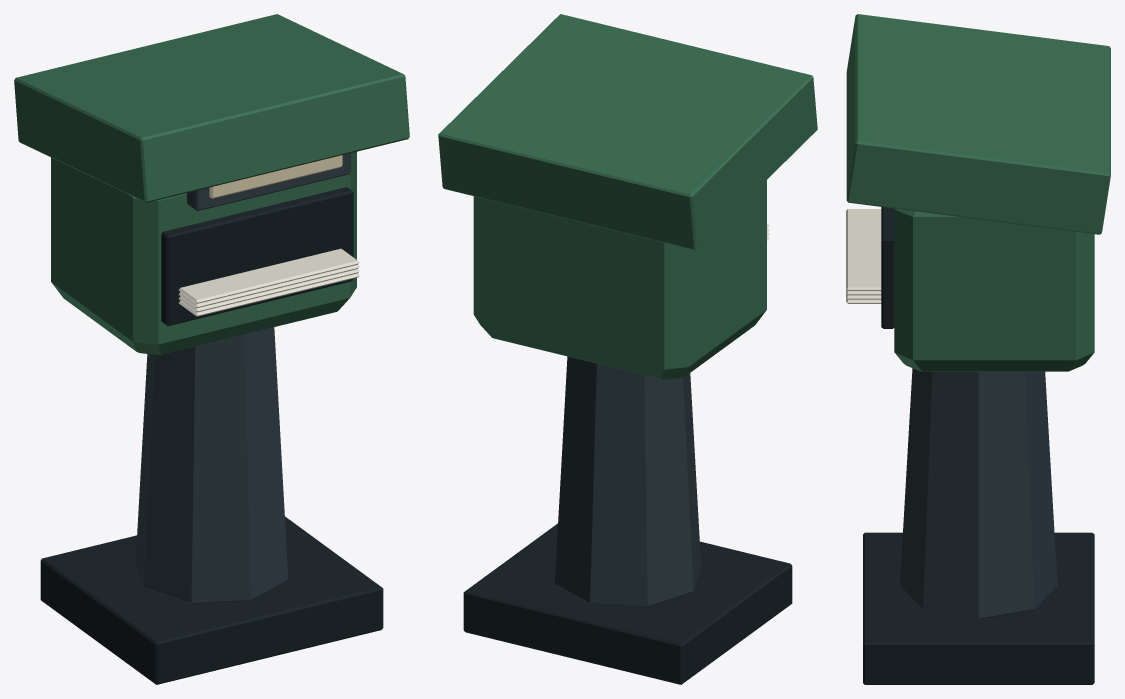
File: b10_free_weekly_news_dispenser.glb
The picture shows the model from 3 angles, left to right: view 1: azimuth 30°, elevation 25°; view 2: azimuth 150°, elevation 25°; view 3: azimuth 270°, elevation 25°; orthographic projection. The views are drawn at different scales.
Visible parts, largest first — view 1: b10_free_weekly_news_dispenser; view 2: b10_free_weekly_news_dispenser; view 3: b10_free_weekly_news_dispenser.
Boxes of the visible parts, x1,y1,x2,y2 form: b10_free_weekly_news_dispenser: (14,14,409,684); b10_free_weekly_news_dispenser: (438,14,817,684); b10_free_weekly_news_dispenser: (846,14,1110,684).
Bounding box in the file's own units: 0.58 × 1.16 × 0.5031.
